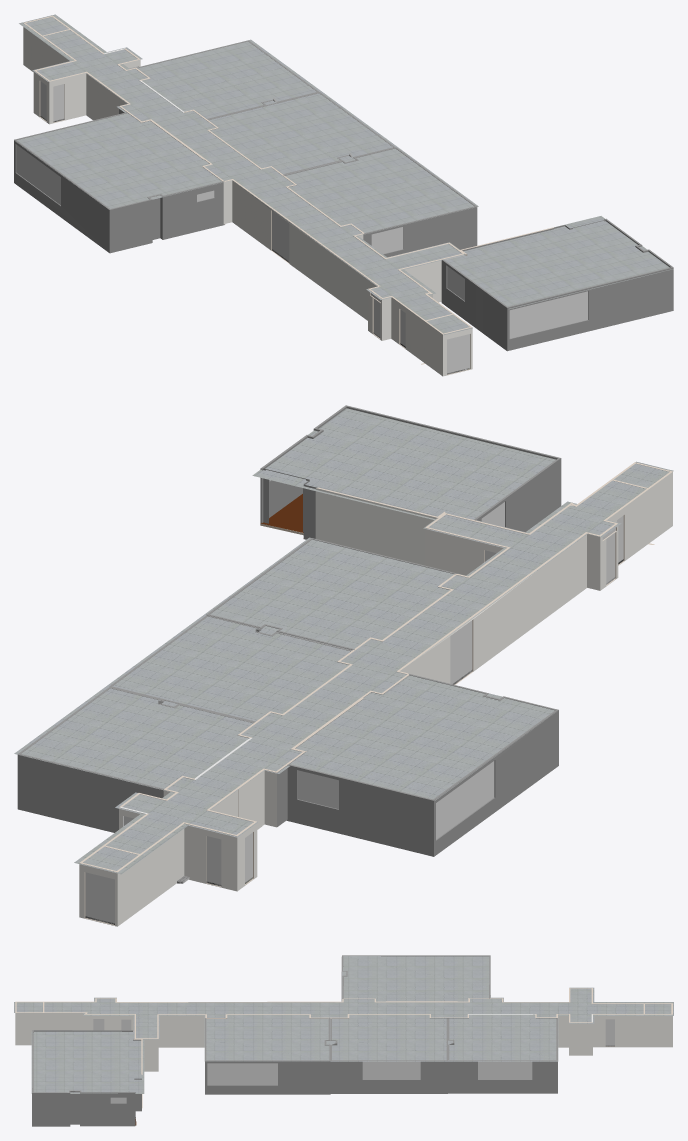
Rendered from hall(3).fbx.
3 renders of one model, top to bottom at view 1: azimuth 30°, elevation 25°; view 2: azimuth 150°, elevation 25°; view 3: azimuth 270°, elevation 25°, orthographic. The views are drawn at different scales.
Parts seen in each view (by area): view 1: 平面, Plane, wall_11.002, wall_11.001, wall_3.002, wall_30.005, window_4.003, wall_6.003, window_4.002, wall_41.003, wall_14.001, wall_53.002 (+6 smaller); view 2: 平面, Plane, wall_11.002, wall_30.005, wall_3.002, wall_11.001, wall_12.002, wall_14.001, wall_6.003, wall_17.004, wall_23.002, window_4.002 (+6 smaller); view 3: 平面, wall_30.005, Plane, wall_11.001, wall_6.007, window_1, wall_7.002, wall_14.003, window_2.005, window_0, wall_16.004, wall_49 (+7 smaller).
Boxes of the visible parts, bbox=[...] form: 平面: bbox=[14, 14, 478, 335]; Plane: bbox=[445, 216, 673, 309]; wall_11.002: bbox=[14, 106, 224, 253]; wall_11.001: bbox=[441, 218, 673, 351]; wall_3.002: bbox=[232, 180, 377, 320]; wall_30.005: bbox=[136, 40, 477, 257]; window_4.003: bbox=[509, 291, 588, 338]; wall_6.003: bbox=[391, 297, 442, 376]; window_4.002: bbox=[16, 144, 60, 205]; wall_41.003: bbox=[49, 73, 86, 124]; wall_14.001: bbox=[23, 23, 73, 71]; wall_53.002: bbox=[86, 73, 108, 120]; 平面: bbox=[14, 461, 673, 874]; Plane: bbox=[252, 408, 555, 519]; wall_11.002: bbox=[277, 673, 558, 856]; wall_30.005: bbox=[17, 538, 458, 832]; wall_3.002: bbox=[400, 533, 586, 683]; wall_11.001: bbox=[260, 405, 561, 539]; wall_12.002: bbox=[315, 488, 437, 565]; wall_14.001: bbox=[117, 826, 184, 926]; wall_6.003: bbox=[607, 472, 672, 565]; wall_17.004: bbox=[184, 823, 237, 891]; wall_23.002: bbox=[425, 528, 506, 575]; window_4.002: bbox=[436, 761, 494, 839]; 平面: bbox=[14, 956, 673, 1061]; wall_30.005: bbox=[205, 1018, 557, 1094]; Plane: bbox=[31, 1031, 144, 1093]; wall_11.001: bbox=[32, 1030, 141, 1126]; wall_6.007: bbox=[593, 1016, 672, 1047]; window_1: bbox=[207, 1063, 277, 1085]; wall_7.002: bbox=[158, 1015, 204, 1047]; wall_14.003: bbox=[15, 1013, 83, 1045]; window_2.005: bbox=[362, 1061, 420, 1079]; window_0: bbox=[478, 1061, 532, 1079]; wall_16.004: bbox=[569, 1023, 592, 1055]; wall_49: bbox=[97, 988, 670, 1022].
Bounding box in the file's own units: 2350 × 4756 × 280.
Materials: 87 (4 with a texture image).
